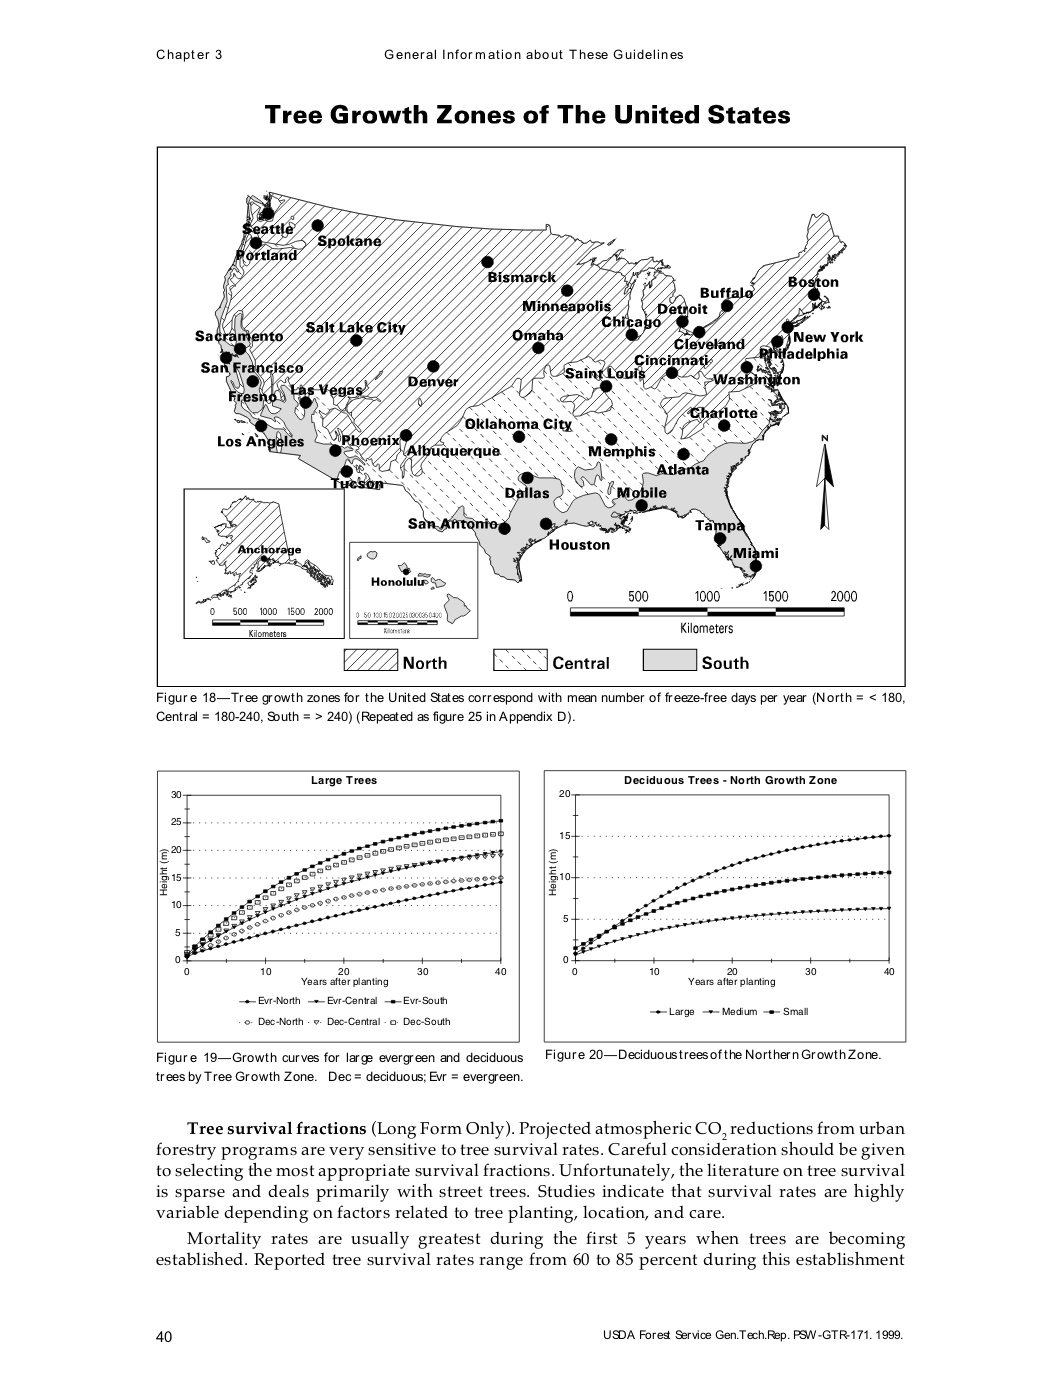figure: (156, 145, 905, 686), (543, 769, 906, 1043), (157, 769, 519, 1043)
